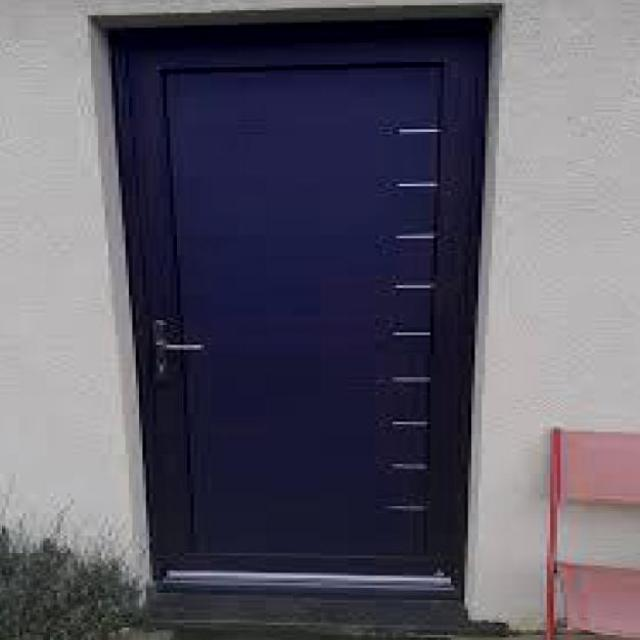door: (110, 22, 488, 597)
